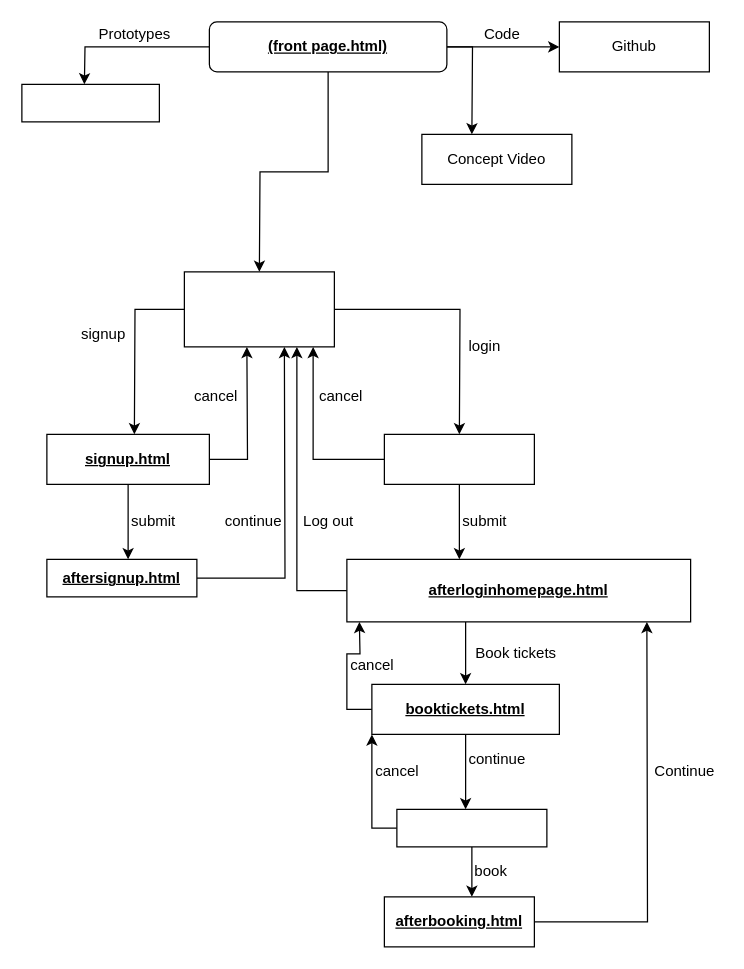
This 744x969 diagram has some shape labels left out. Here are the shapes that lost their labels. From the top down, the box of each, then its label:
(21, 83, 159, 122): Figma
(183, 271, 334, 347): home page.html
(383, 433, 534, 484): login.html
(396, 808, 547, 847): seatbooking.html
